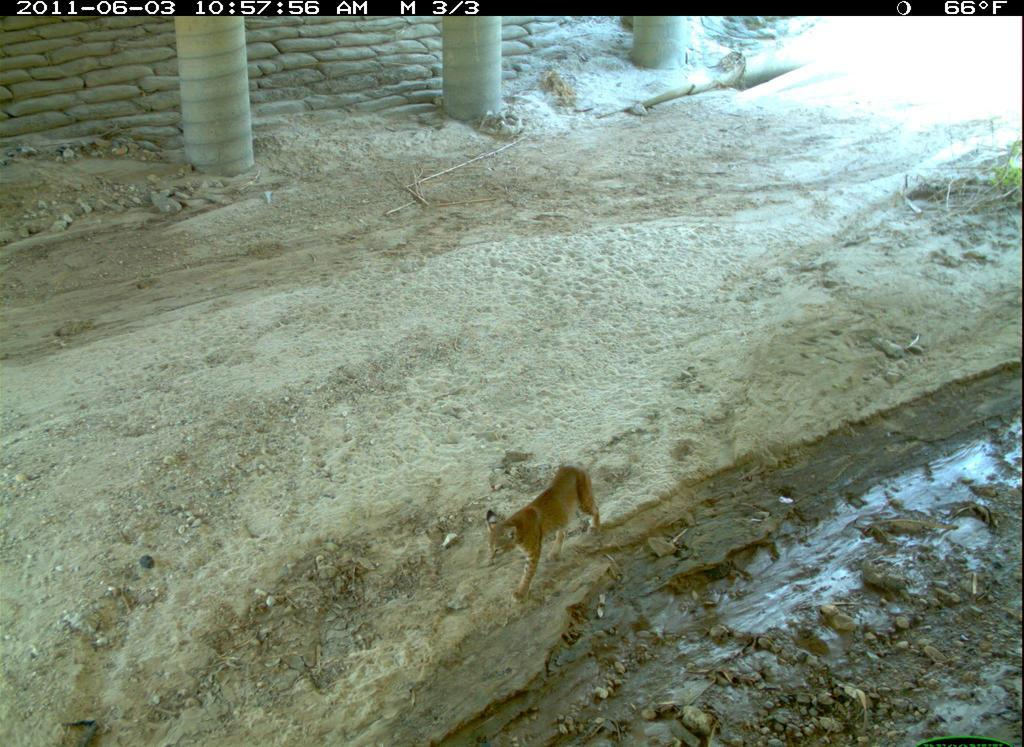bobcat: (472, 454, 616, 600)
